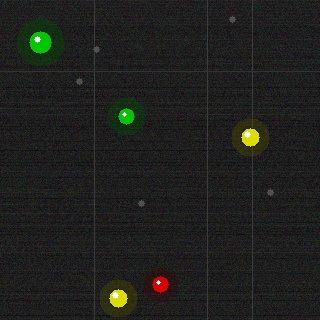green_normal: (27, 29, 53, 55), (116, 106, 136, 126)
red_fault: (150, 274, 170, 294)
yellow_warning: (239, 126, 261, 148), (107, 287, 129, 309)
